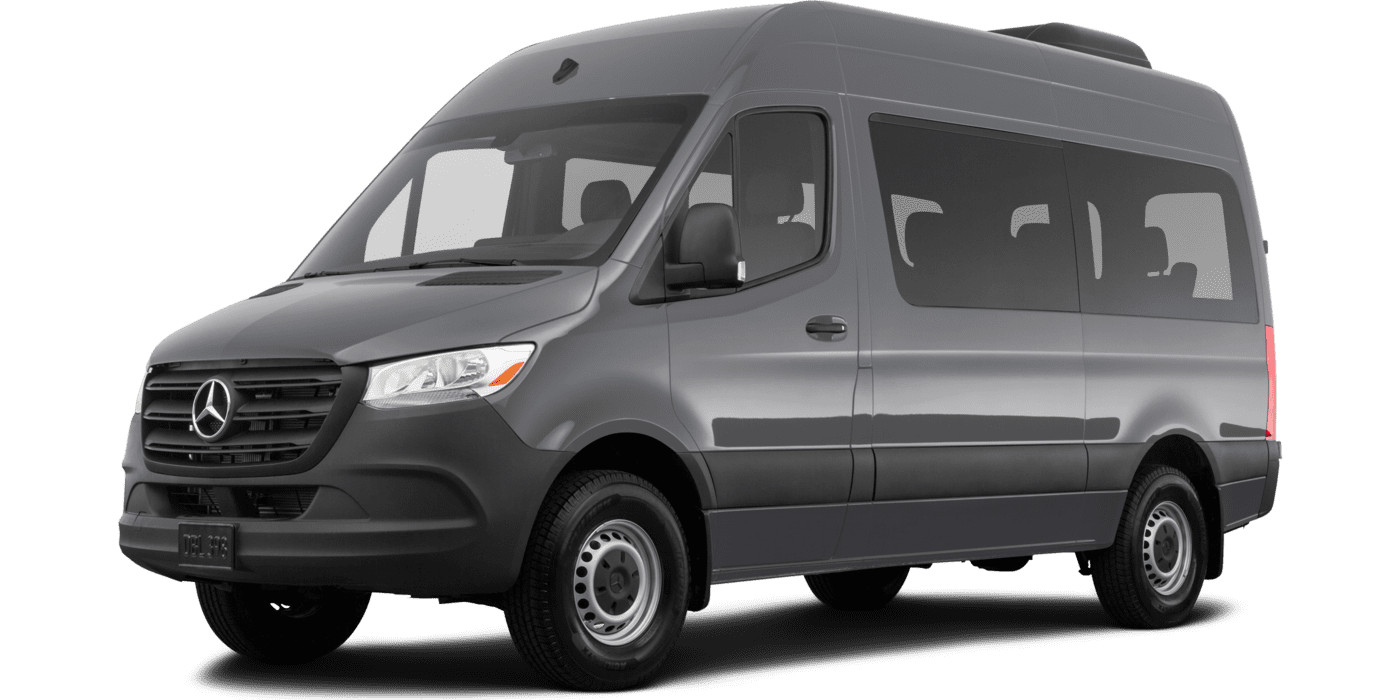van: (120, 1, 1282, 692)
